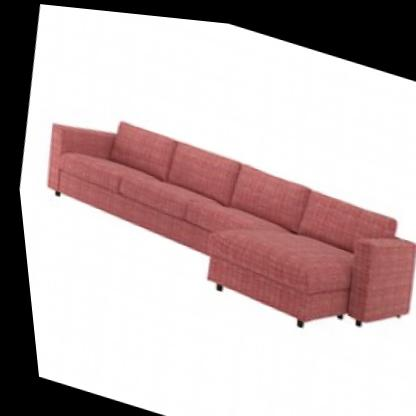Sofa: (8, 56, 416, 366)
